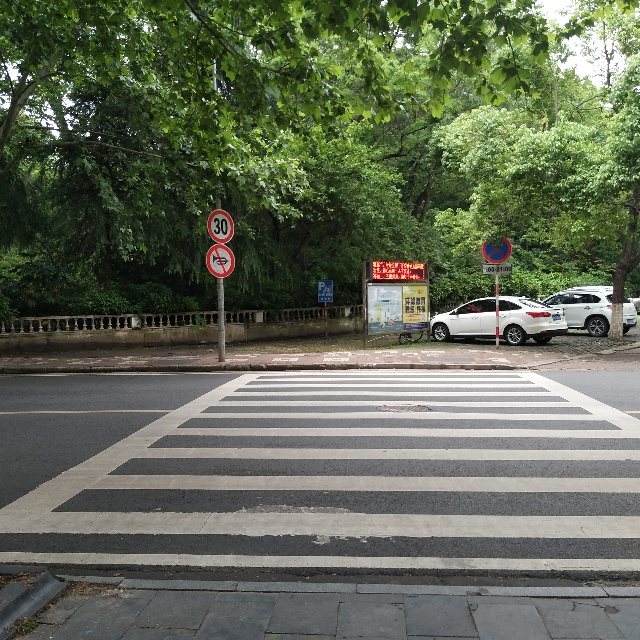nohonk: (205, 241, 236, 280)
stop: (483, 231, 517, 268)
